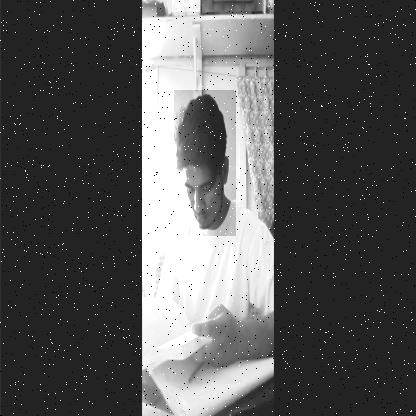Distracted: (173, 90, 235, 236)
